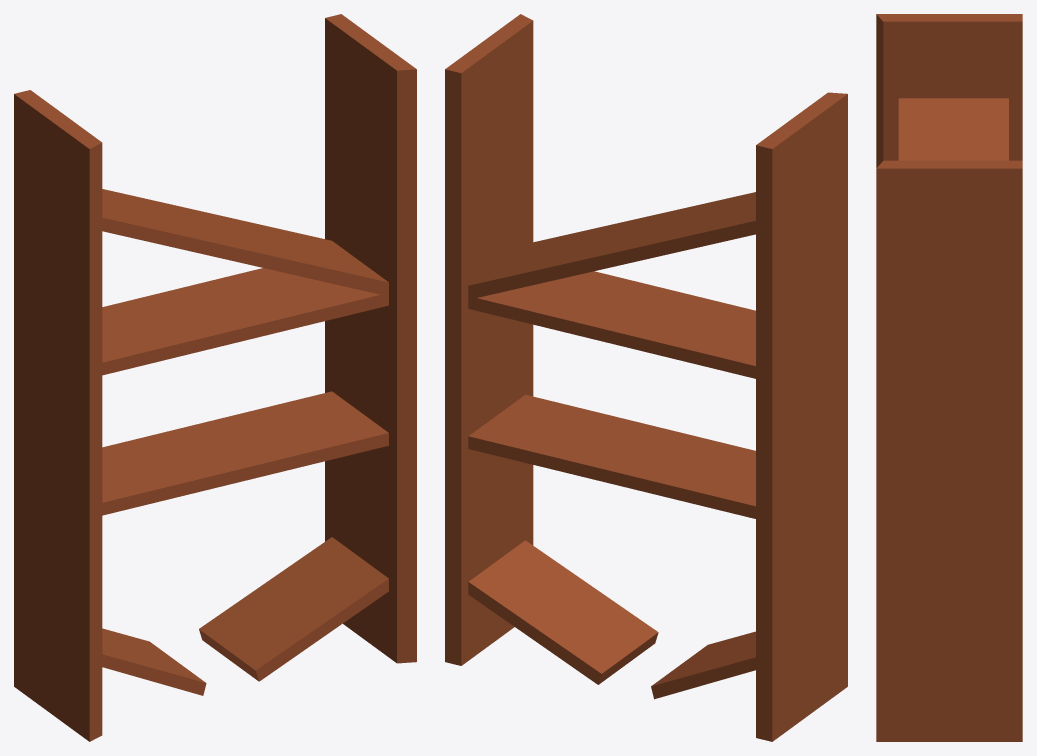
File: Prop_Fantasy_Book_Shelf_Timber_Broken_01.FBX
3 views of the same model, side by side, from view 1: azimuth 30°, elevation 25°; view 2: azimuth 150°, elevation 25°; view 3: azimuth 270°, elevation 25° (orthographic). The views are drawn at different scales.
Parts seen in each view (by area): view 1: Prop_Fantasy_Book_Shelf_Timber_Broken_01; view 2: Prop_Fantasy_Book_Shelf_Timber_Broken_01; view 3: Prop_Fantasy_Book_Shelf_Timber_Broken_01.
Part boxes in pixels (x1,y1,x2,y2): Prop_Fantasy_Book_Shelf_Timber_Broken_01: [14, 14, 416, 741]; Prop_Fantasy_Book_Shelf_Timber_Broken_01: [445, 14, 847, 741]; Prop_Fantasy_Book_Shelf_Timber_Broken_01: [876, 14, 1022, 741].
Bounding box in the file's own units: 1052 × 1820 × 421.
